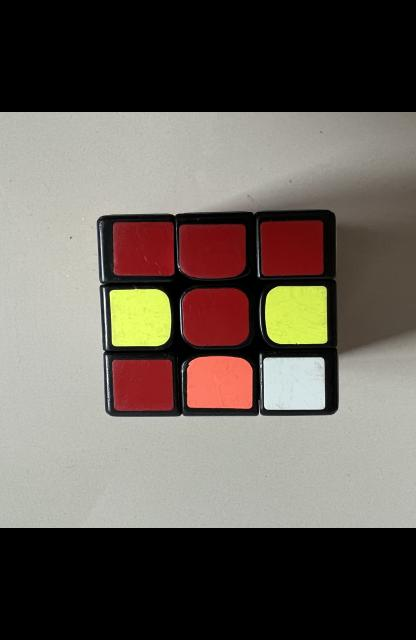Orange: (186, 356, 252, 409)
Red: (180, 288, 248, 346), (178, 224, 245, 279), (259, 220, 323, 277), (112, 221, 173, 276), (110, 359, 173, 411)
White: (262, 357, 324, 410)
Yellow: (264, 285, 327, 344), (108, 289, 170, 347)
